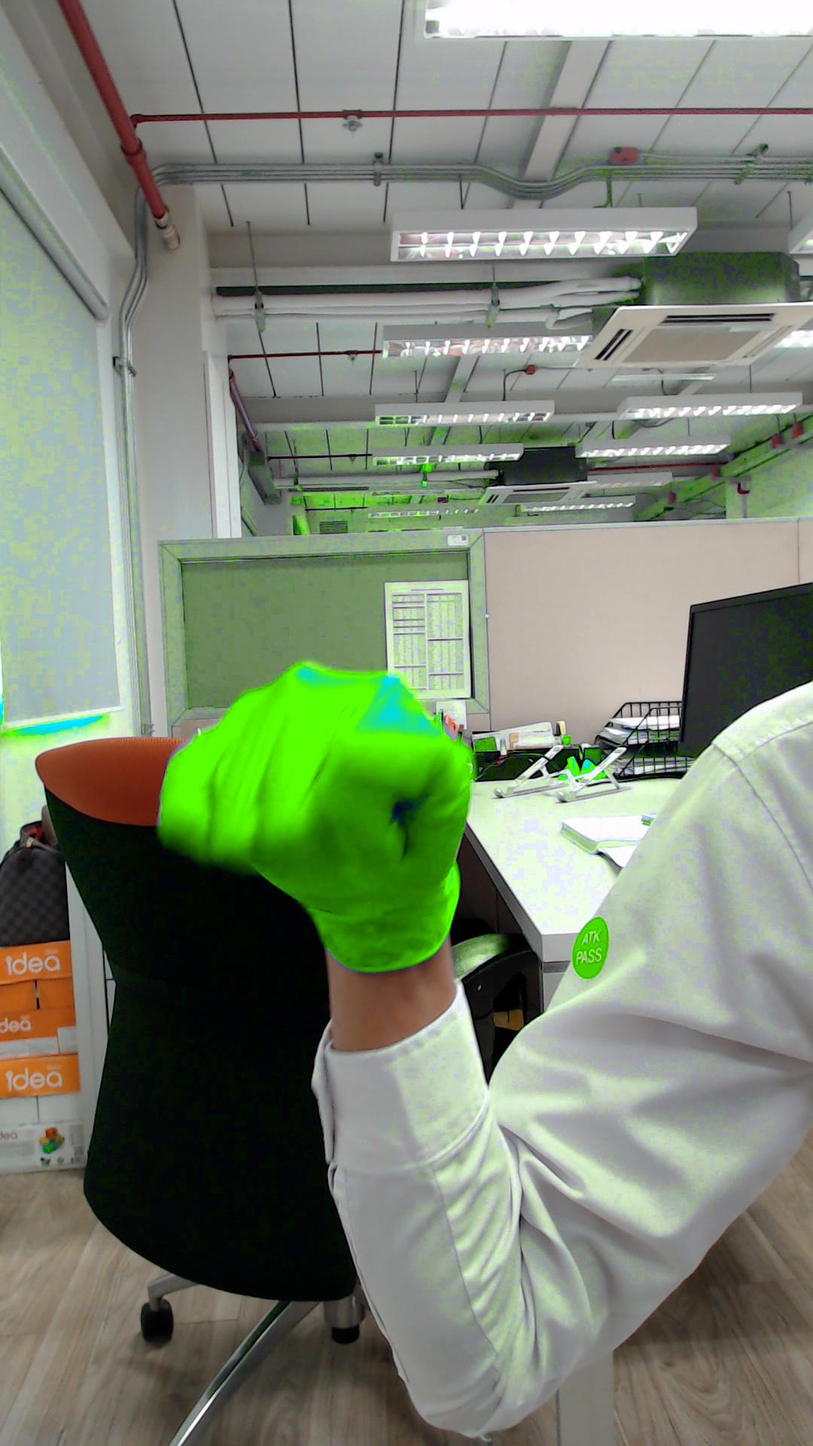gloves: (148, 644, 482, 923)
